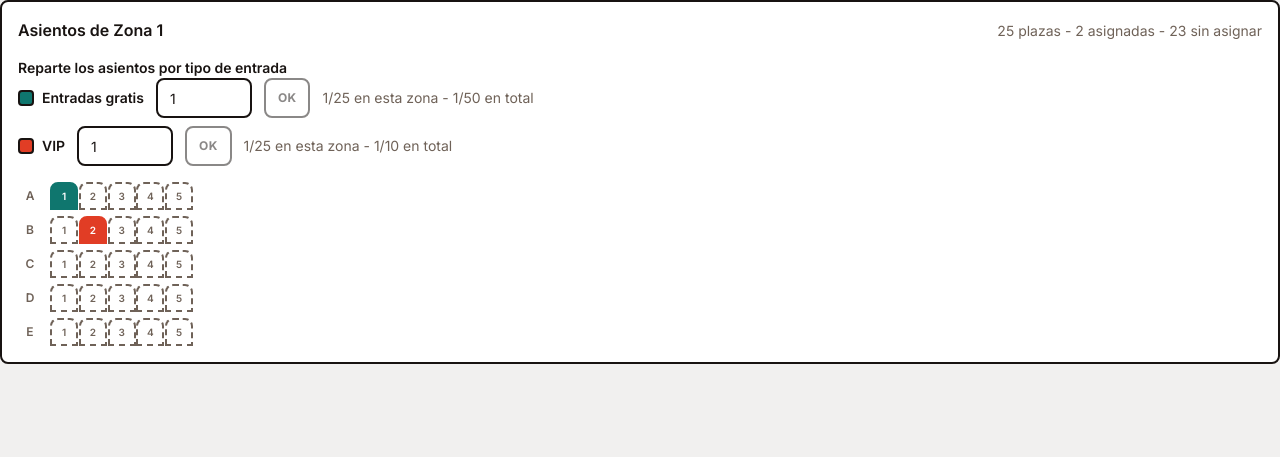
Scenario: ZoneSeatEditor › moving a seat › swaps the two ticket types when the move lands on an occupied seat
Click the button named "Asiento A1 Entradas gratis".
click(64, 196)  # box 50,182 -> 78,210
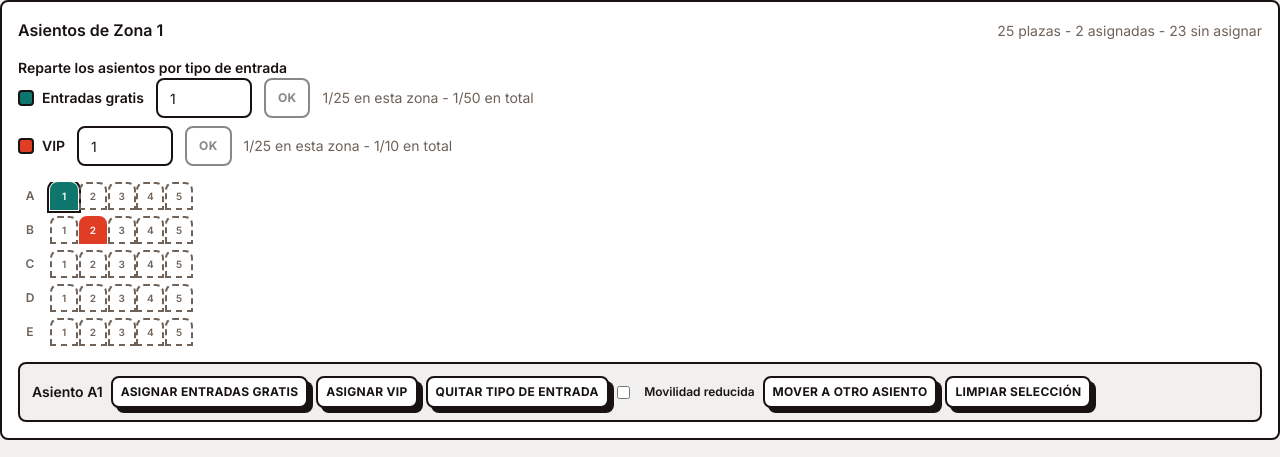
Click the button "Mover a otro asiento".
click(850, 392)  # box 763,376 -> 938,408
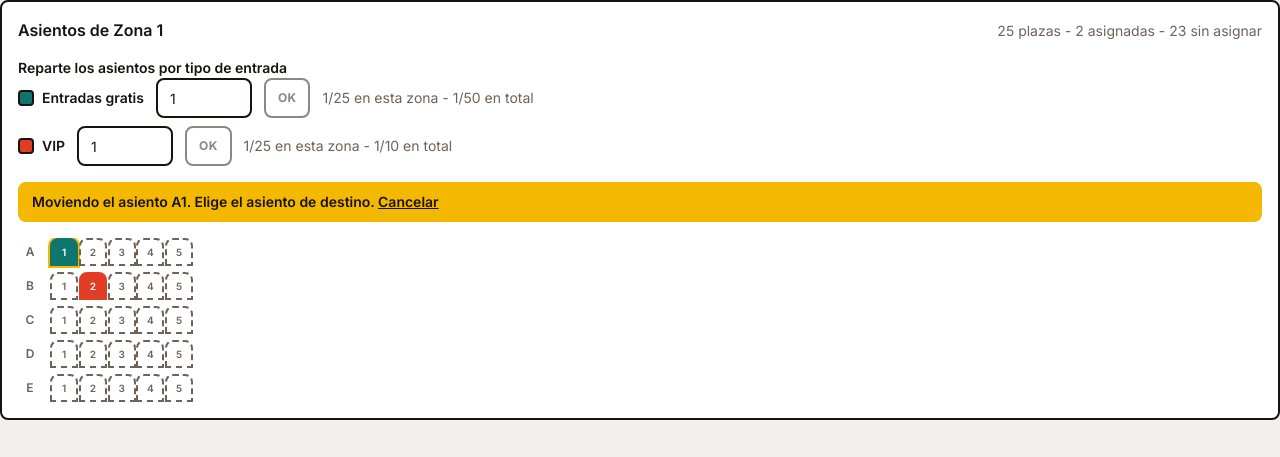
Click the 2nd button "2".
click(93, 286)  # box 79,272 -> 107,300
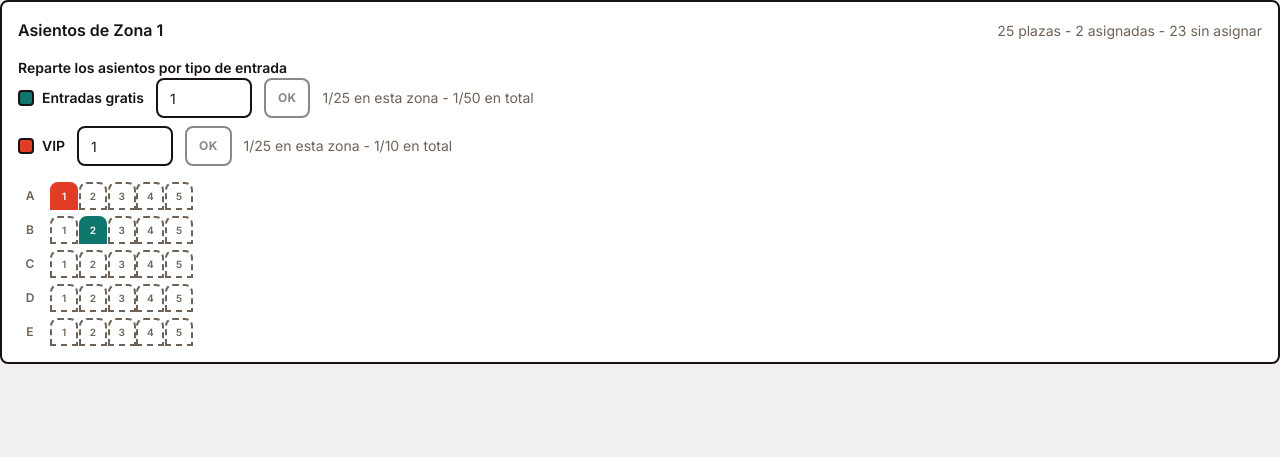
Check: the button named "Asiento A1 VIP" is shown, box 50,182 -> 78,210
Check: the button named "Asiento B2 Entradas gratis" is shown, box 79,216 -> 107,244
